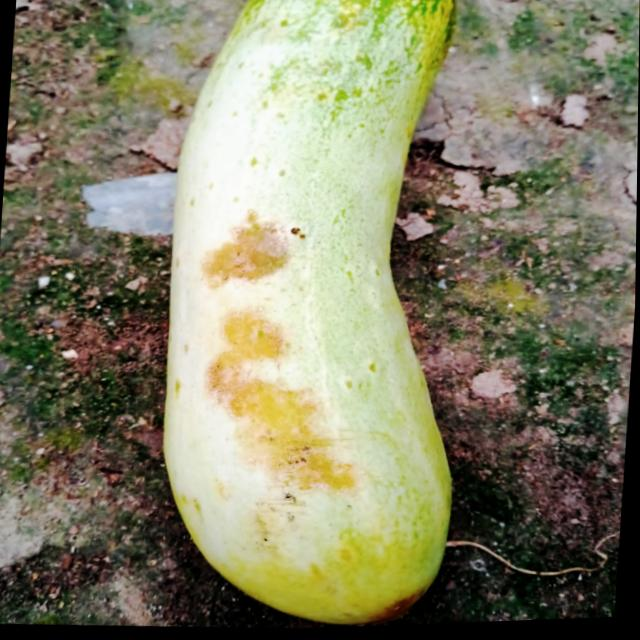Belly-Rot: (181, 186, 388, 511)
